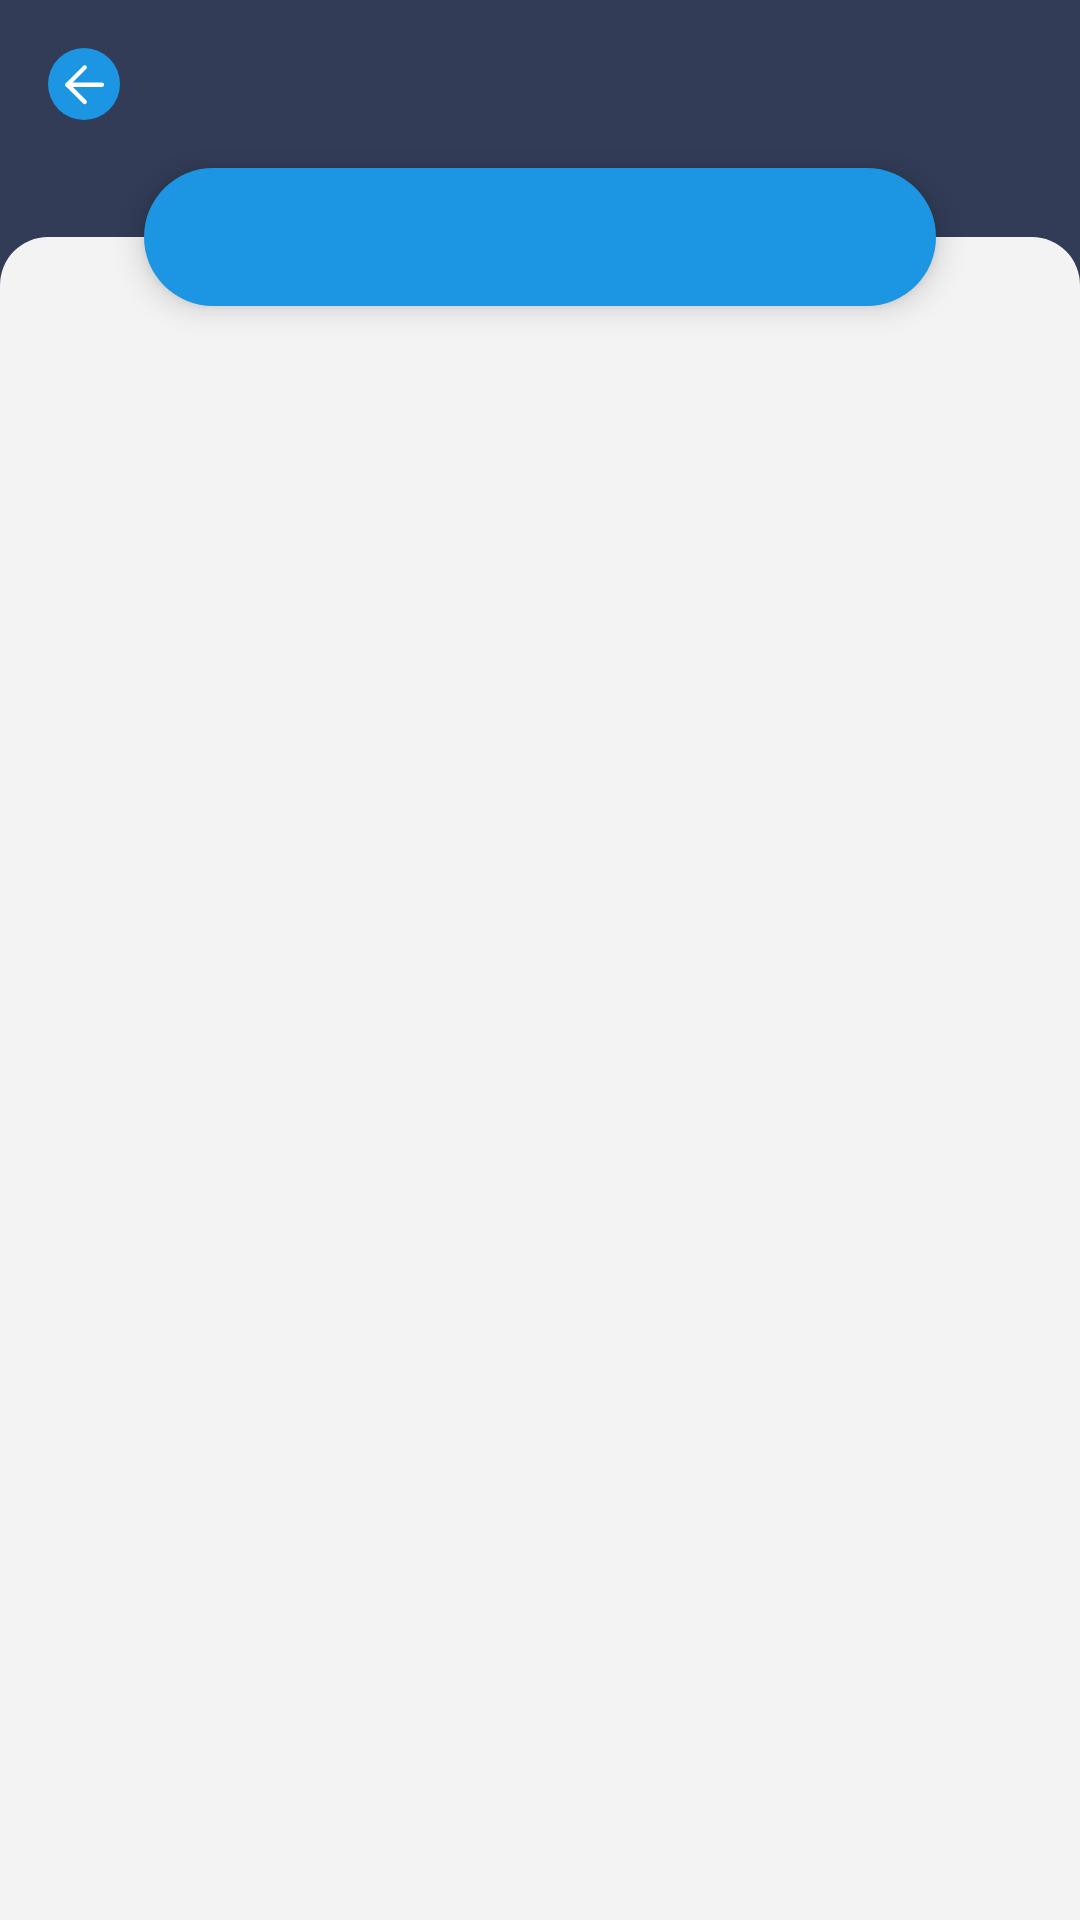

Icons on this 1080w x 1920h Android screen, each with its box as (x1, y1, x2, y2):
back: (48, 48, 120, 120)
